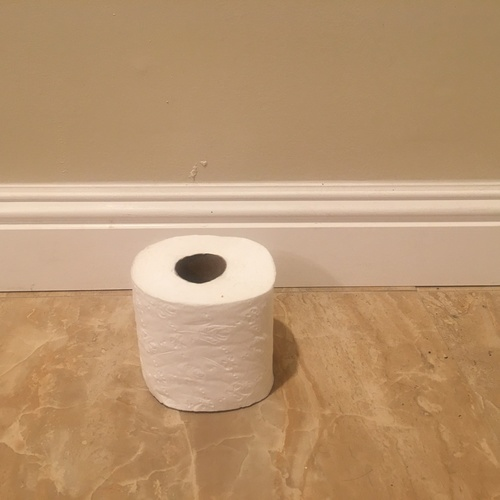roll: (131, 234, 276, 413)
